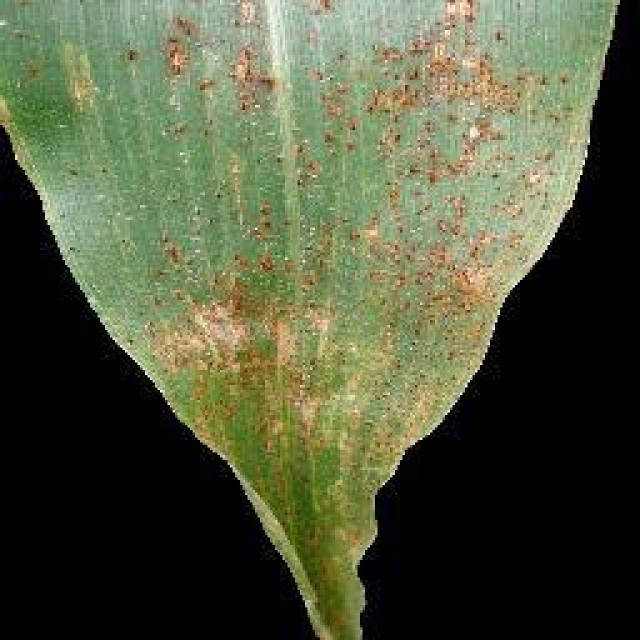Corn Common Rust: (135, 43, 607, 530)
